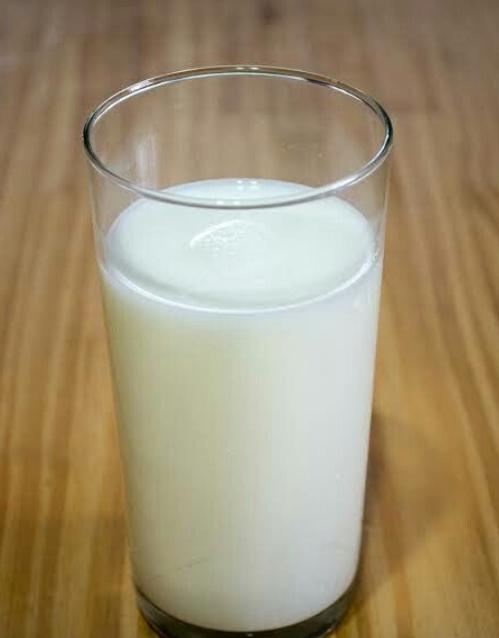produk_susu: (108, 102, 368, 621)
